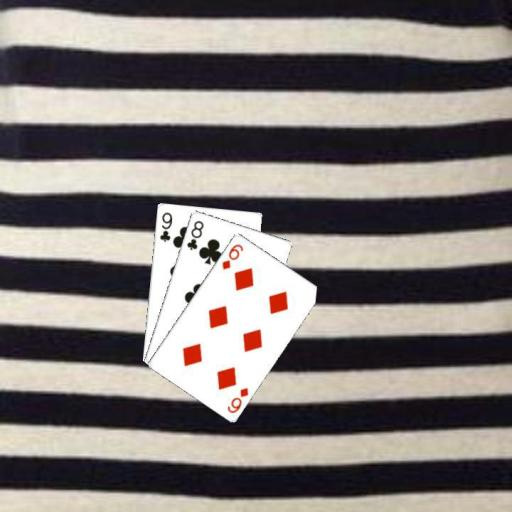6D: (219, 240, 245, 271), (224, 384, 250, 415)
8C: (183, 217, 205, 251)
9C: (157, 209, 174, 243)
